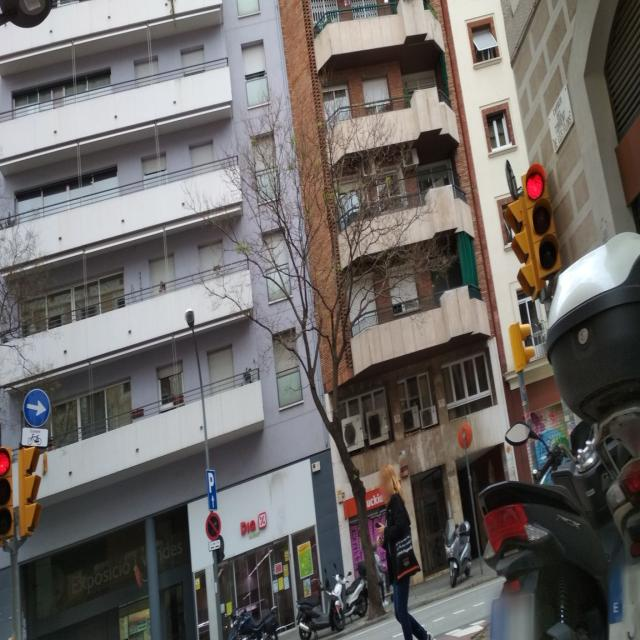bike: (478, 226, 640, 638), (296, 585, 346, 640), (442, 518, 473, 590)
